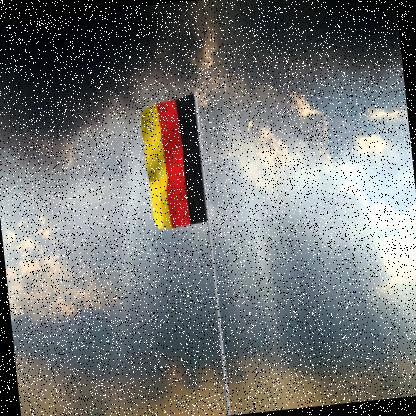de: (139, 95, 209, 233)
